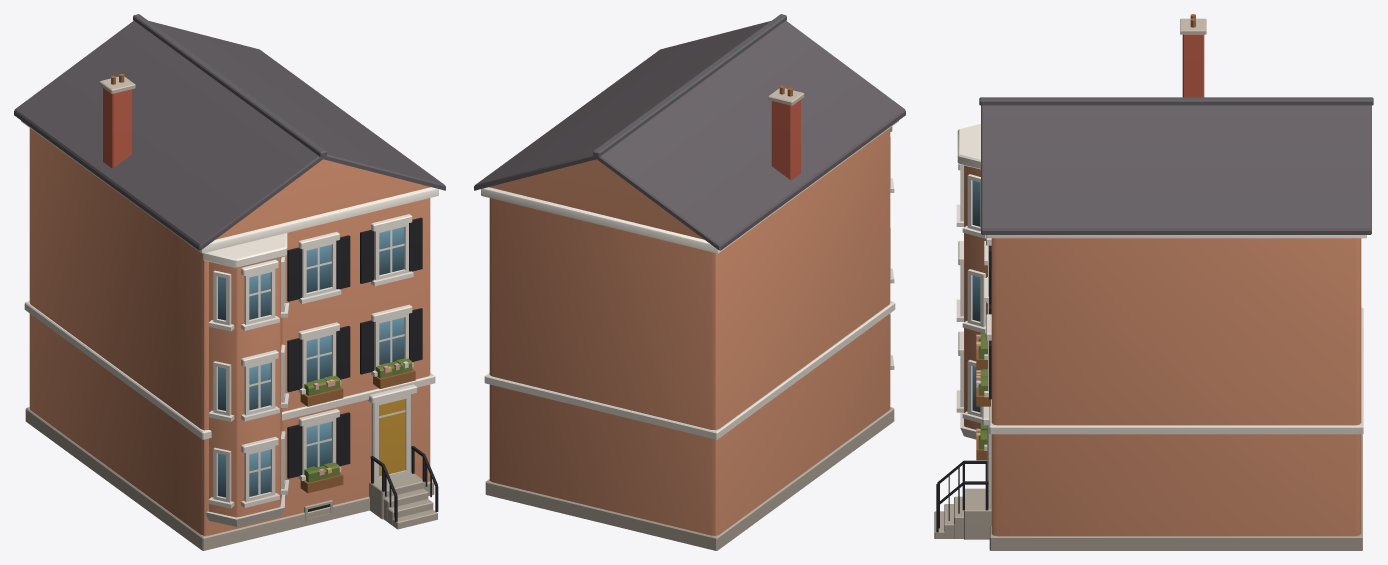
Rendered from lane_w2.glb.
The picture shows the model from 3 angles, left to right: view 1: azimuth 30°, elevation 25°; view 2: azimuth 150°, elevation 25°; view 3: azimuth 270°, elevation 25°; orthographic projection. The views are drawn at different scales.
Parts seen in each view (by area): view 1: lane_w2; view 2: lane_w2; view 3: lane_w2.
Part boxes in pixels (box(x1,y1,x2,y2)): lane_w2: box(14, 14, 445, 550); lane_w2: box(474, 14, 905, 550); lane_w2: box(934, 14, 1373, 550).
Bounding box in the file's own units: 9.7 × 15.07 × 14.26.
1 material, 1 textured.
